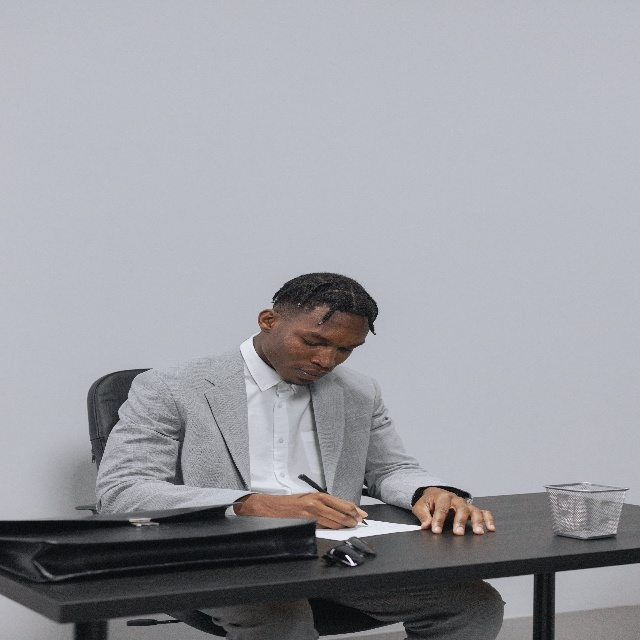Gafas: (323, 536, 375, 568)
Sin_guantes: (255, 490, 368, 533), (411, 487, 495, 542)
